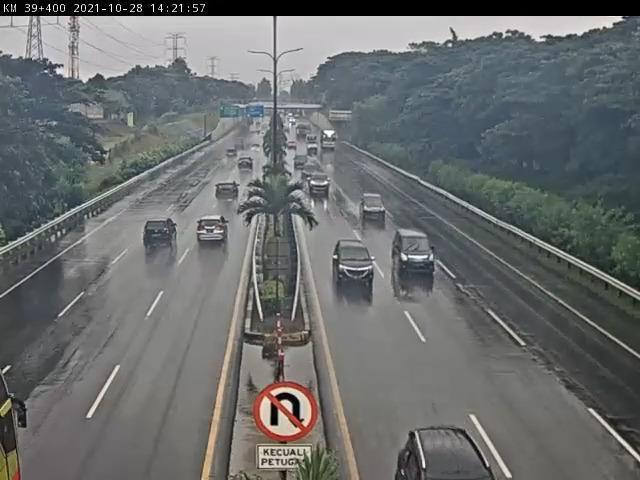car: (331, 240, 377, 287), (391, 230, 437, 276), (143, 217, 179, 251), (198, 216, 229, 247), (362, 192, 389, 218), (215, 180, 243, 203), (309, 174, 333, 197), (236, 155, 256, 173), (292, 153, 310, 170), (225, 146, 242, 161)
